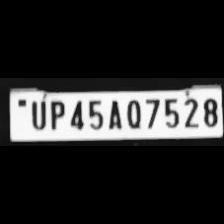2: (179, 95, 199, 129)
4: (66, 97, 84, 130)
5: (160, 96, 180, 128), (86, 97, 104, 130)
7: (142, 96, 158, 130)
8: (200, 96, 218, 128)
A: (105, 97, 123, 130)
P: (46, 98, 66, 130)
Q: (124, 96, 142, 130)
U: (28, 98, 46, 130)
